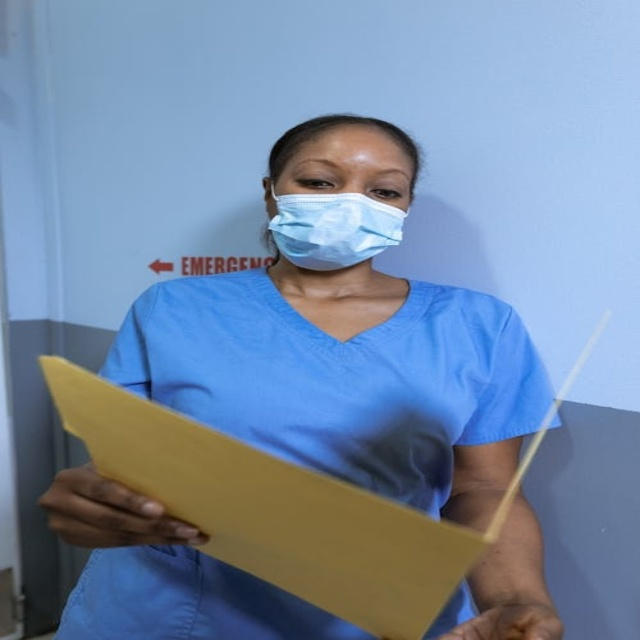Mascara: (266, 183, 408, 269)
Sin_gafas: (287, 156, 416, 204)
Sin_guantes: (39, 458, 204, 550), (431, 599, 573, 638)
